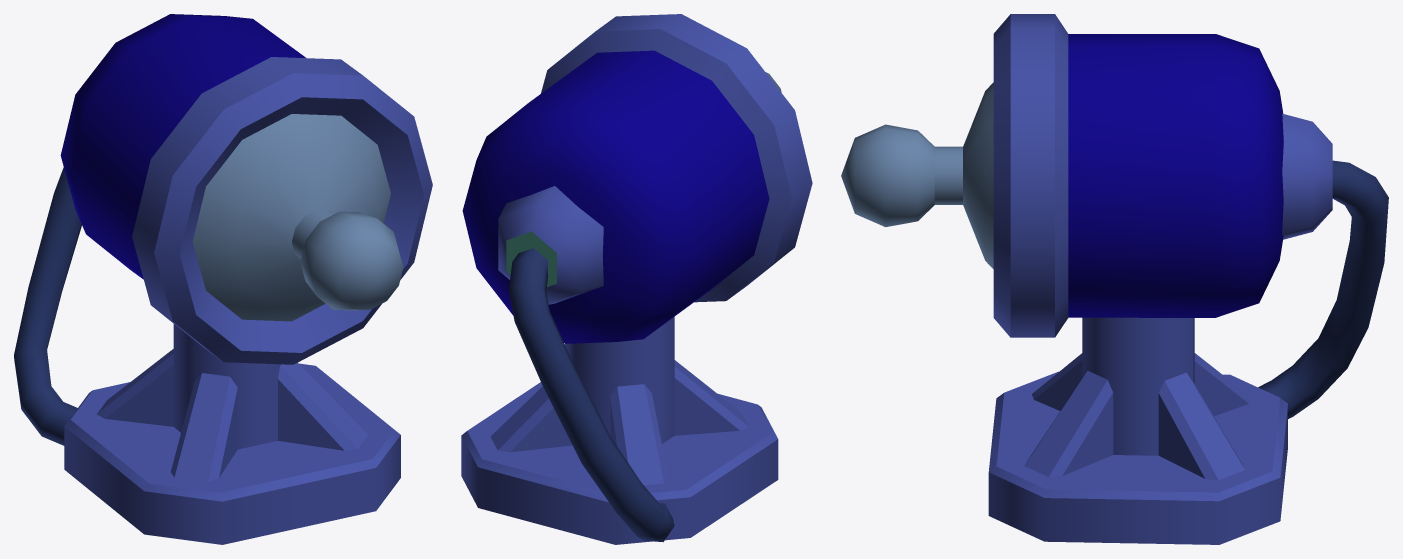
Rendered from Turret.fbx.
3 renders of one model, left to right at view 1: azimuth 30°, elevation 25°; view 2: azimuth 150°, elevation 25°; view 3: azimuth 270°, elevation 25°, orthographic. The views are drawn at different scales.
Parts seen in each view (by area): view 1: Laser; view 2: Laser; view 3: Laser.
Boxes of the visible parts, box(x1,y1,x2,y2) form: Laser: box(14, 14, 432, 544); Laser: box(461, 14, 812, 544); Laser: box(841, 14, 1388, 544).
Size of the model in its own units: 65.27 by 100 by 110.
